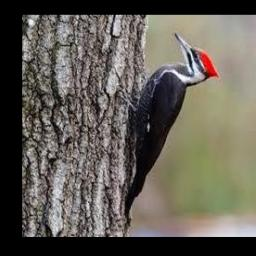Woodpecker: (121, 31, 220, 225)
